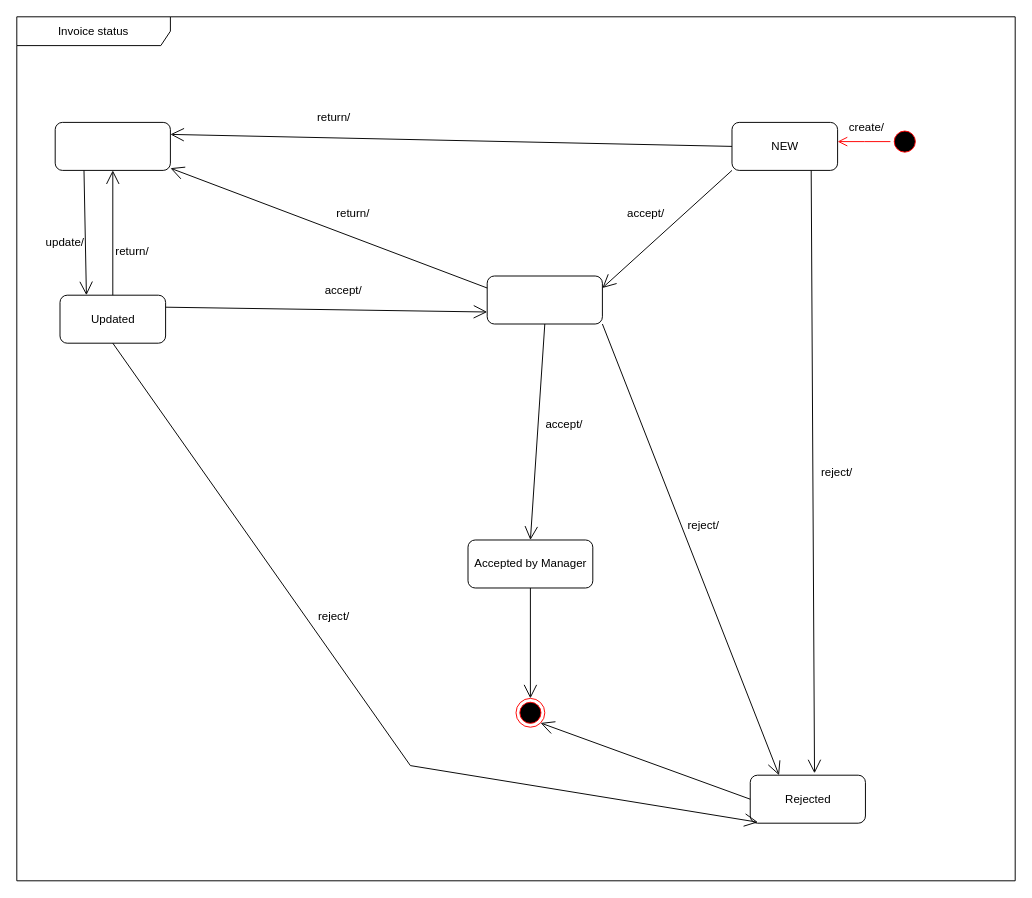
Image size: 1032x898. Some labels were removed from this diagram. Each missing label, with the centre of its shape:
"Accepted by Financial Controller" belongs at (544,299).
"Returned" belongs at (112,145).
